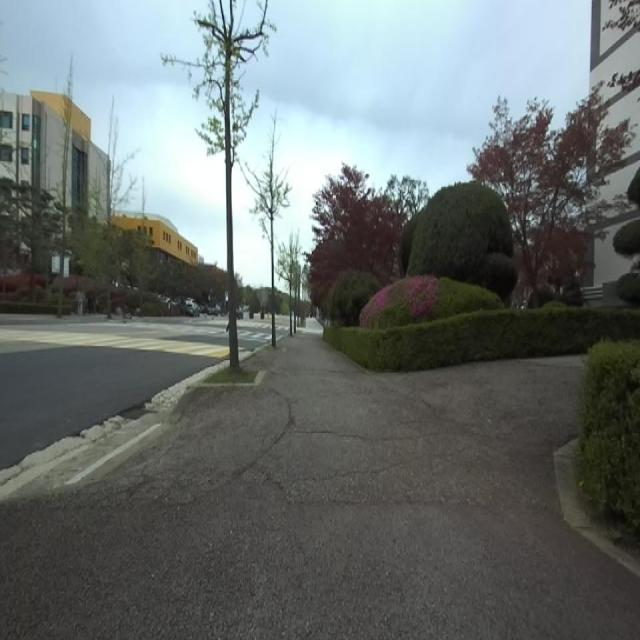sidewalk: (0, 332, 640, 639)
